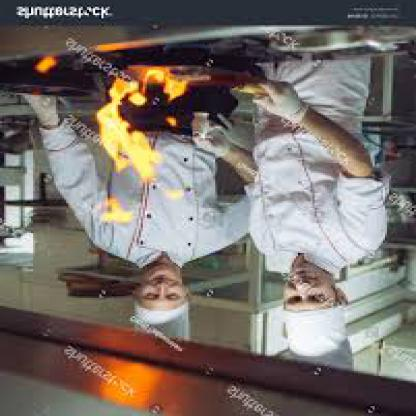Fire: (66, 63, 211, 231)
